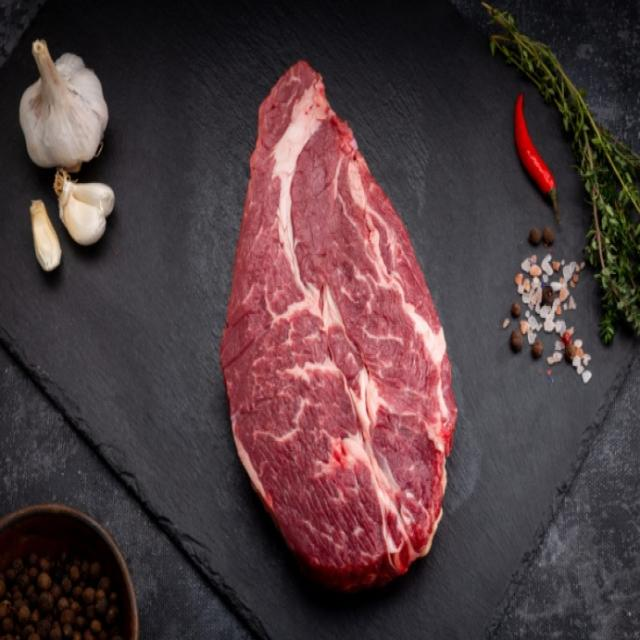beef: (248, 113, 415, 520)
